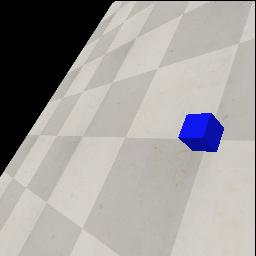box: (178, 113, 224, 152)
